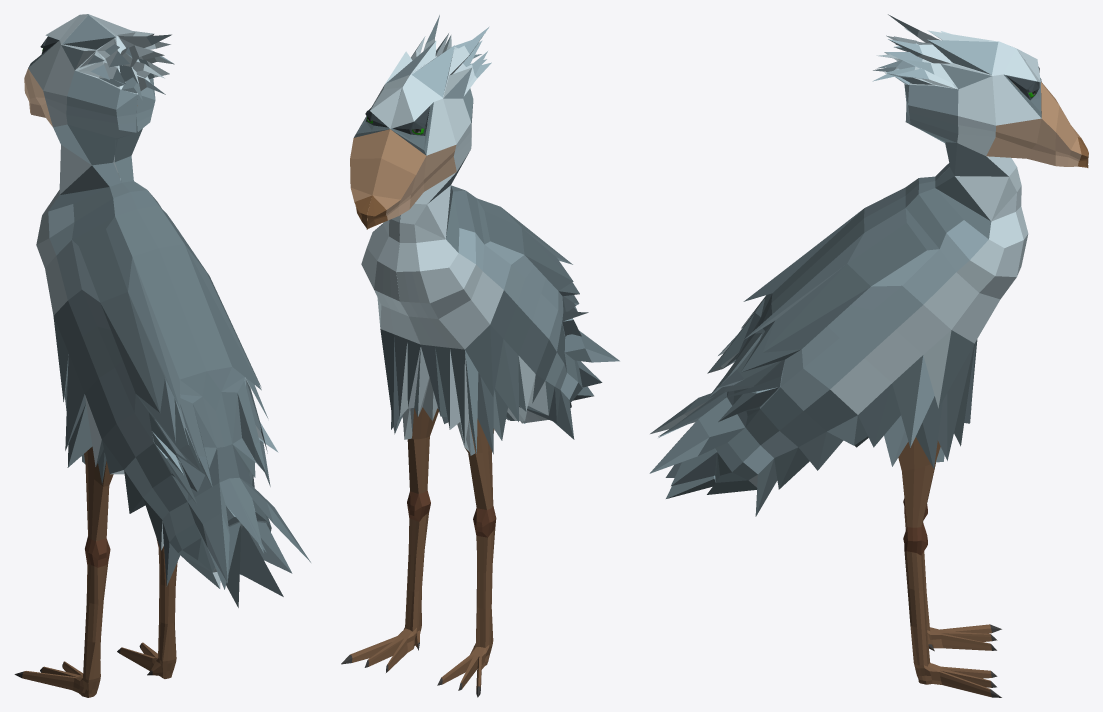
File: dorian_shoebill__low-poly-shoebill-duck.glb
The picture shows the model from 3 angles, left to right: view 1: azimuth 30°, elevation 25°; view 2: azimuth 150°, elevation 25°; view 3: azimuth 270°, elevation 25°; orthographic projection. The views are drawn at different scales.
Visible parts, largest first — view 1: Cube; view 2: Cube; view 3: Cube.
Boxes of the visible parts, <box> form: Cube: <box>14,14,310,697</box>; Cube: <box>341,15,619,697</box>; Cube: <box>649,14,1088,697</box>.
Bounding box in the file's own units: 247 × 1068 × 668.
1 material, 1 textured.
